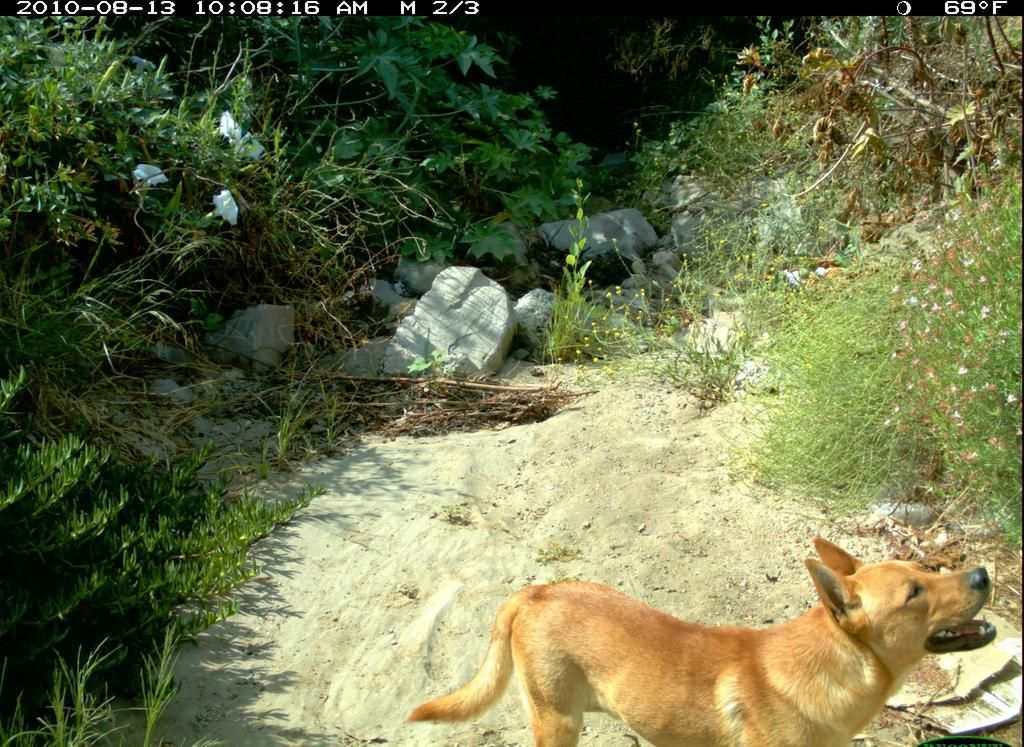dog: (402, 528, 1005, 747)
